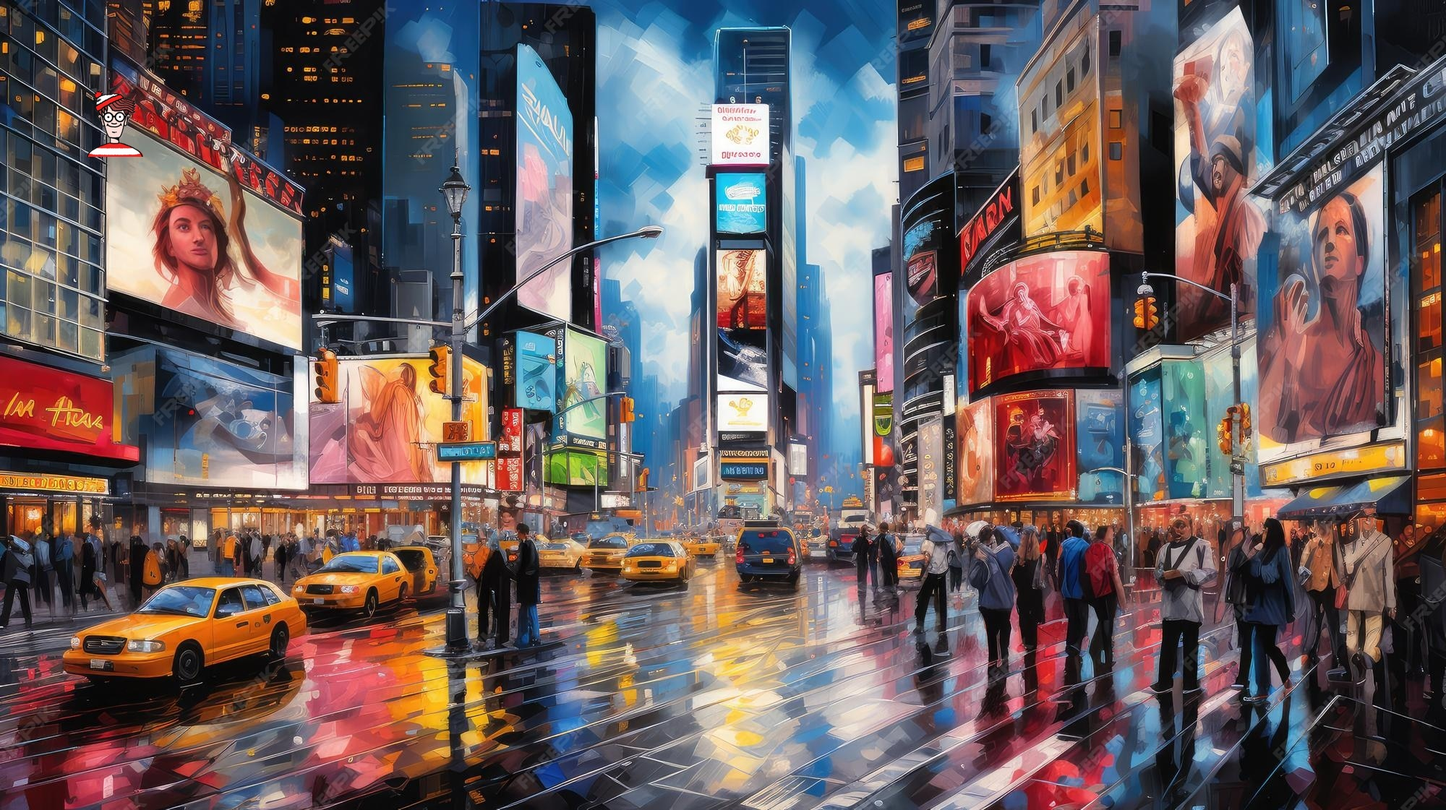waldo: (86, 90, 143, 157)
